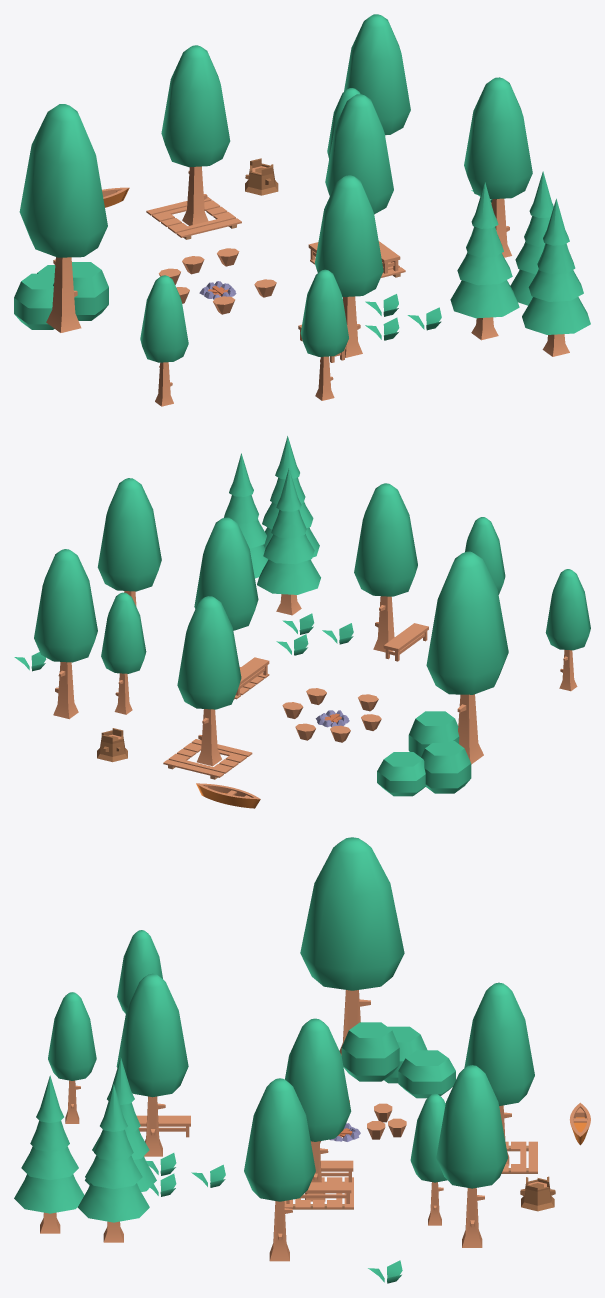
File: nature_reserve.glb
The picture shows the model from 3 angles, top to bottom: view 1: azimuth 30°, elevation 25°; view 2: azimuth 150°, elevation 25°; view 3: azimuth 270°, elevation 25°; orthographic projection. The views are drawn at different scales.
Parts seen in each view (by area): view 1: mergedBlocks(Clone); view 2: mergedBlocks(Clone); view 3: mergedBlocks(Clone).
Boxes of the visible parts, box(x1,y1,x2,y2) form: mergedBlocks(Clone): box(14, 14, 590, 406); mergedBlocks(Clone): box(14, 436, 590, 808); mergedBlocks(Clone): box(14, 837, 590, 1283).
Size of the model in its own units: 1.65 by 0.7317 by 1.63.
